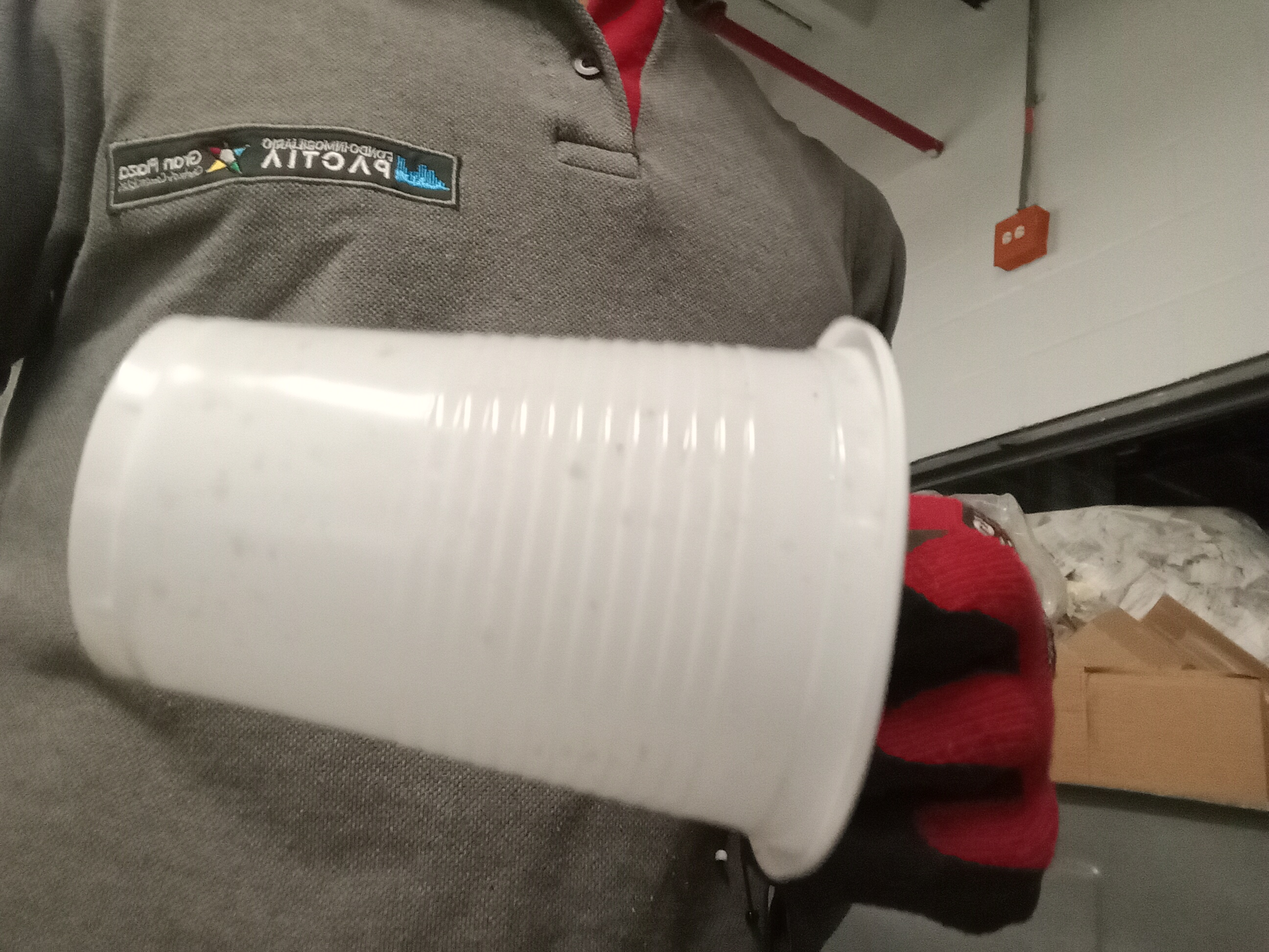Plastico: (69, 316, 908, 882)
